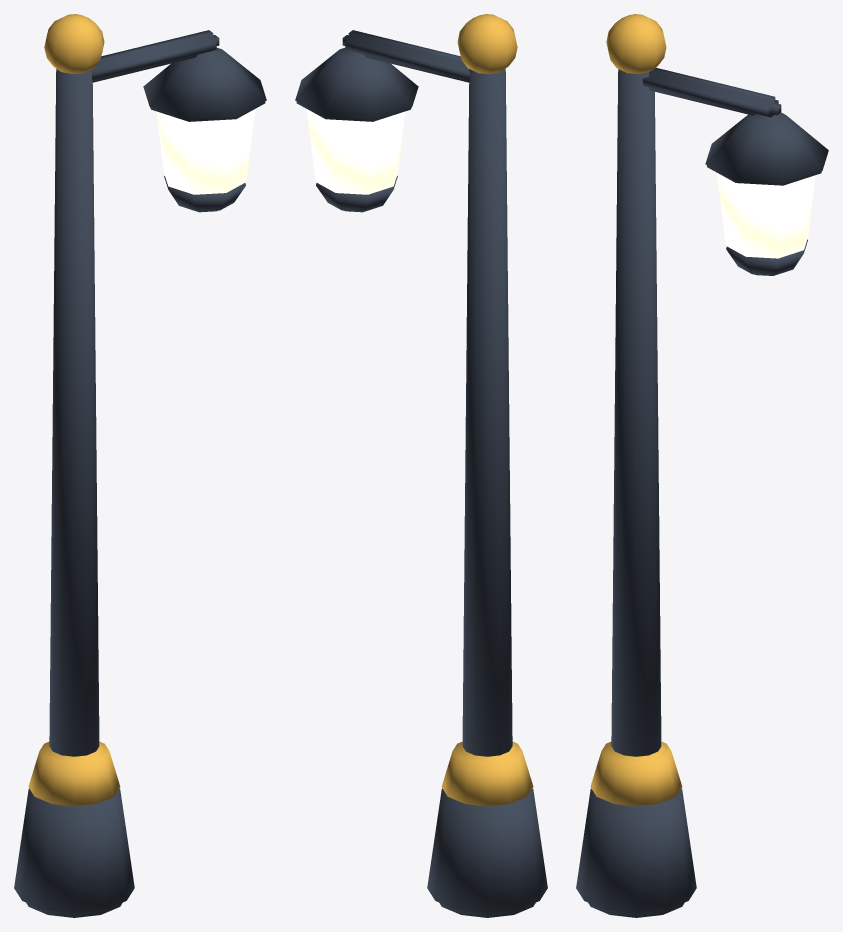
File: StreetLamp.fbx
3 views of the same model, side by side, from view 1: azimuth 30°, elevation 25°; view 2: azimuth 150°, elevation 25°; view 3: azimuth 330°, elevation 25° (orthographic).
Visible parts, largest first — view 1: StreetLamp; view 2: StreetLamp; view 3: StreetLamp.
Part boxes in pixels (bbox=[...]): StreetLamp: bbox=[14, 14, 266, 917]; StreetLamp: bbox=[295, 14, 547, 917]; StreetLamp: bbox=[576, 14, 828, 917].
Bounding box in the file's own units: 0.985 × 3.47 × 0.458.
